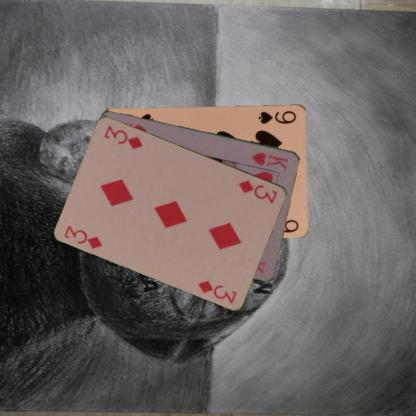3d: (61, 223, 104, 250), (236, 178, 279, 204)
9s: (256, 107, 298, 125)
Kh: (249, 149, 290, 172)
